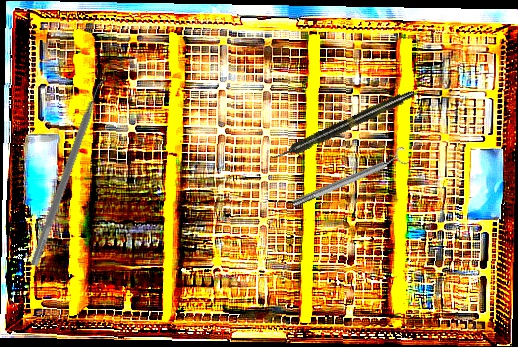Fixation Ring: (289, 145, 411, 213)
Handpiece: (269, 87, 416, 165)
Spatula Surgical: (30, 75, 111, 270)
